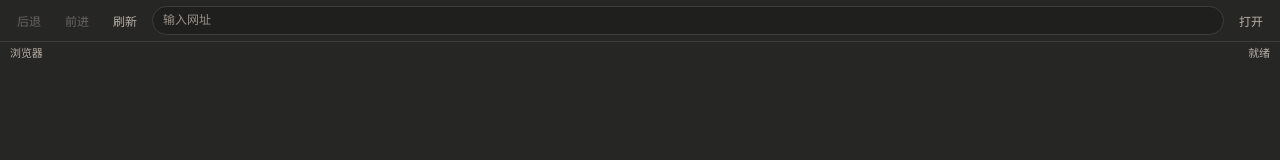
it: BrowserPanel › does not overwrite a focused address draft when guest navigation arrives
The image size is (1280, 160).
Type "my unfinished address" into the field named "网页地址" at (688, 21), box [152, 6, 1224, 35]
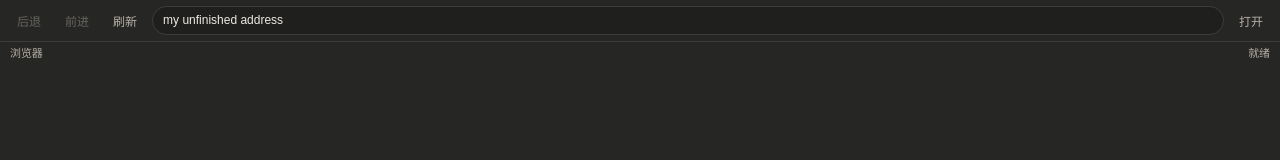
Leave the field named "网页地址", box [152, 6, 1224, 35]
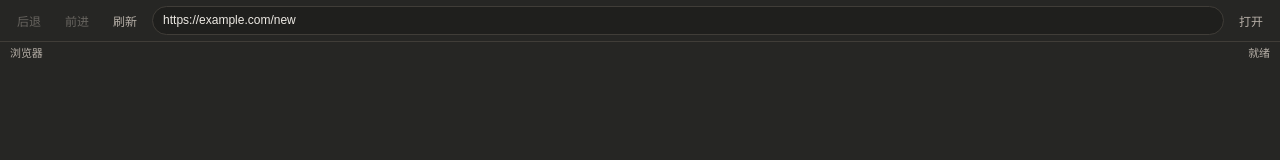
Expected: the field named "网页地址" holds "https://example.com/new", [152, 6, 1224, 35]
